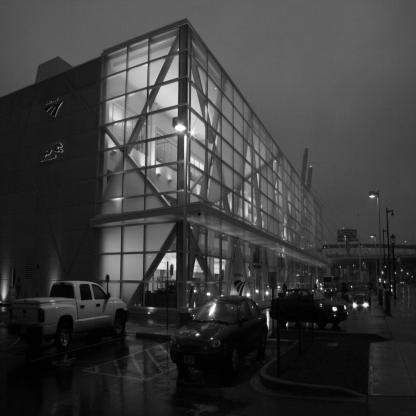car: (176, 290, 268, 377), (258, 283, 354, 330)
